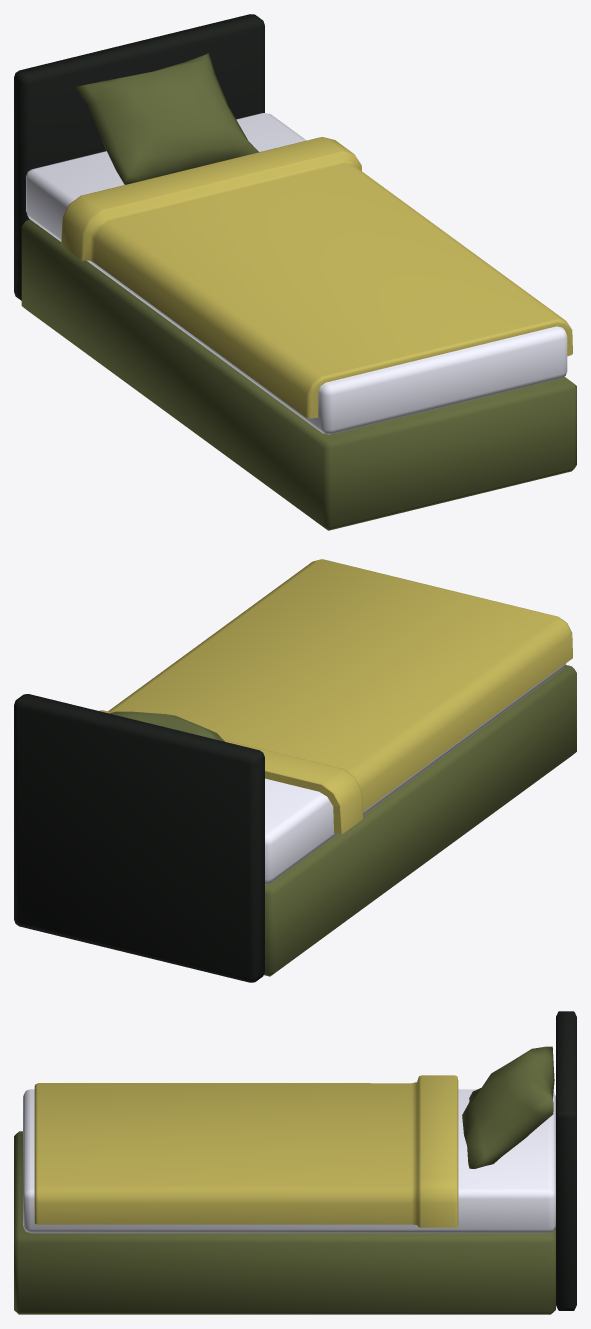
File: Prop_Bed_04.fbx
The picture shows the model from 3 angles, top to bottom: view 1: azimuth 30°, elevation 25°; view 2: azimuth 150°, elevation 25°; view 3: azimuth 270°, elevation 25°; orthographic projection. The views are drawn at different scales.
Parts seen in each view (by area): view 1: Prop_Bed_04; view 2: Prop_Bed_04; view 3: Prop_Bed_04.
Part boxes in pixels (bbox=[...]): Prop_Bed_04: bbox=[14, 14, 576, 530]; Prop_Bed_04: bbox=[14, 559, 576, 982]; Prop_Bed_04: bbox=[14, 1011, 576, 1314].
Size of the model in its own units: 111 by 85.85 by 218.
